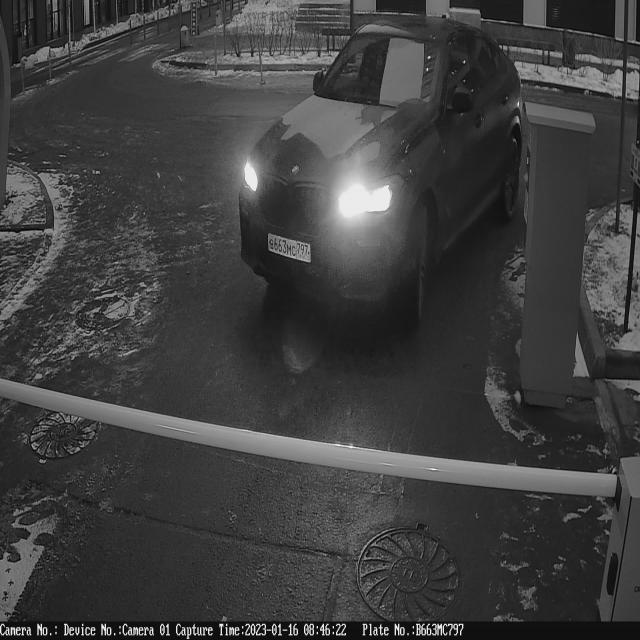car-plate-numbers: (267, 229, 314, 270)
